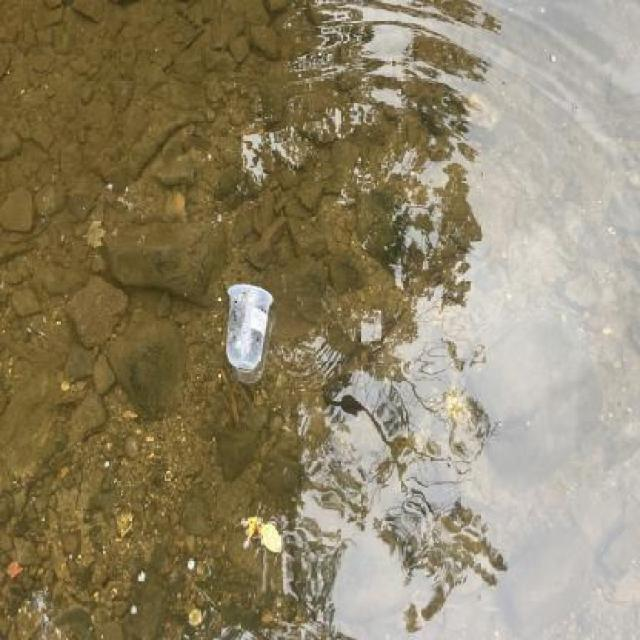Plastic: (218, 278, 278, 370)
